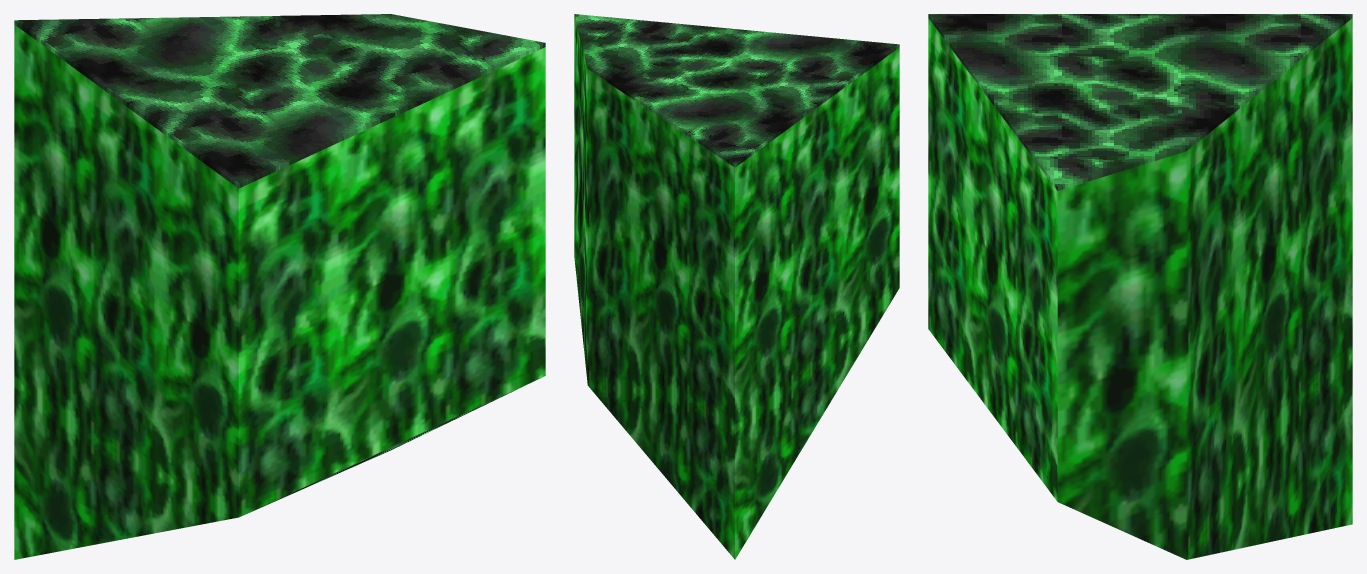
The picture shows the model from 3 angles, left to right: view 1: azimuth 30°, elevation 25°; view 2: azimuth 150°, elevation 25°; view 3: azimuth 270°, elevation 25°; orthographic projection. The views are drawn at different scales.
Parts seen in each view (by area): view 1: kb3_e; view 2: kb3_e; view 3: kb3_e.
Boxes of the visible parts, bbox=[...] form: kb3_e: bbox=[14, 14, 545, 559]; kb3_e: bbox=[574, 14, 899, 559]; kb3_e: bbox=[928, 14, 1352, 559].
Bounding box in the file's own units: 238 × 326 × 246.
2 materials, 2 textured.
